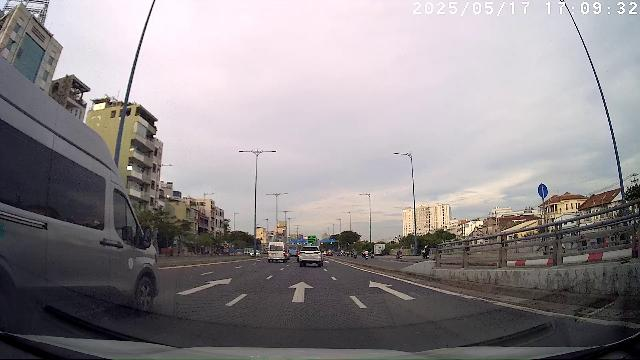301a-cac-xe-chi-duoc-di-thang: (538, 182, 548, 198)
